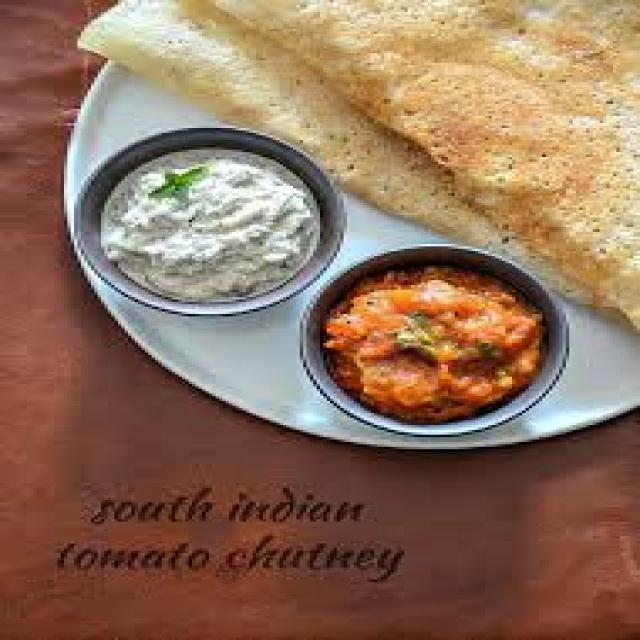DOSA: (73, 0, 637, 339), (204, 0, 637, 332)
